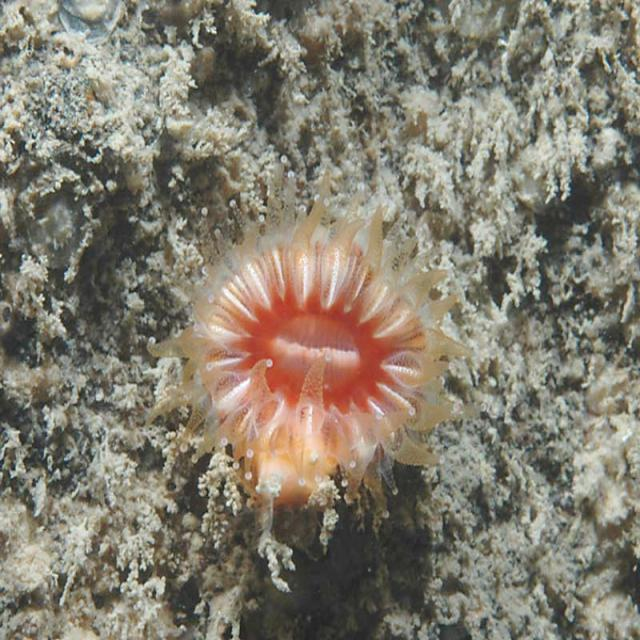Coral: (148, 154, 487, 520)
